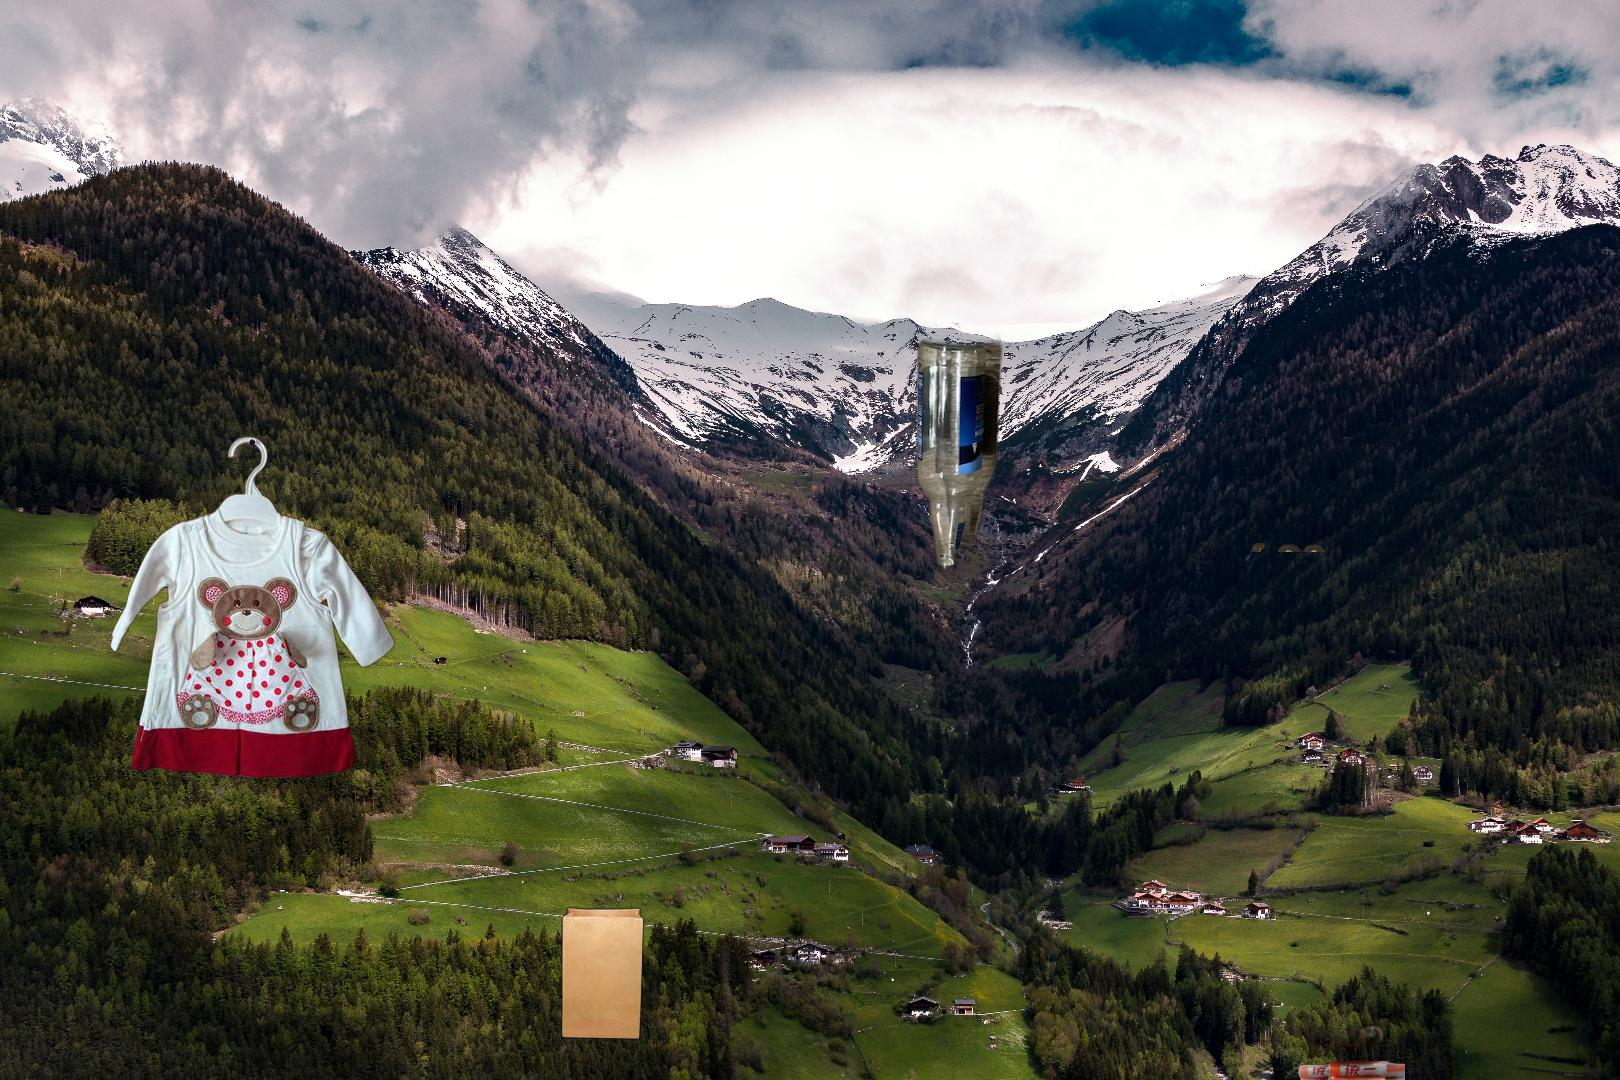battery: (1295, 1021, 1405, 1080)
clothes: (106, 432, 398, 783)
glass: (912, 331, 1006, 576)
paper-bag: (463, 862, 763, 1080)
trashbox-cardboard: (941, 168, 1431, 552)
